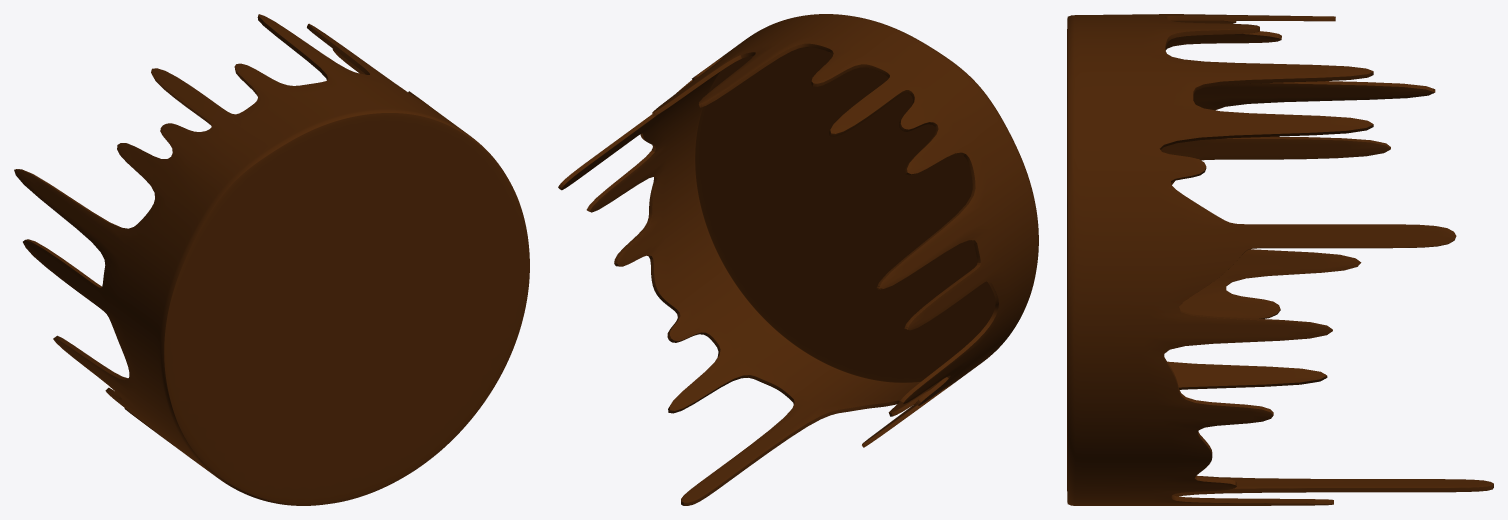
The model's file is drip4.fbx.
The picture shows the model from 3 angles, left to right: view 1: azimuth 30°, elevation 25°; view 2: azimuth 150°, elevation 25°; view 3: azimuth 270°, elevation 25°; orthographic projection. The views are drawn at different scales.
Parts seen in each view (by area): view 1: Chocolate.002_Chocolate_0; view 2: Chocolate.002_Chocolate_0; view 3: Chocolate.002_Chocolate_0.
Boxes of the visible parts, x1,y1,x2,y2 form: Chocolate.002_Chocolate_0: (14, 14, 529, 505); Chocolate.002_Chocolate_0: (558, 14, 1038, 505); Chocolate.002_Chocolate_0: (1067, 14, 1493, 505).
Size of the model in its own units: 204 by 204 by 178.
